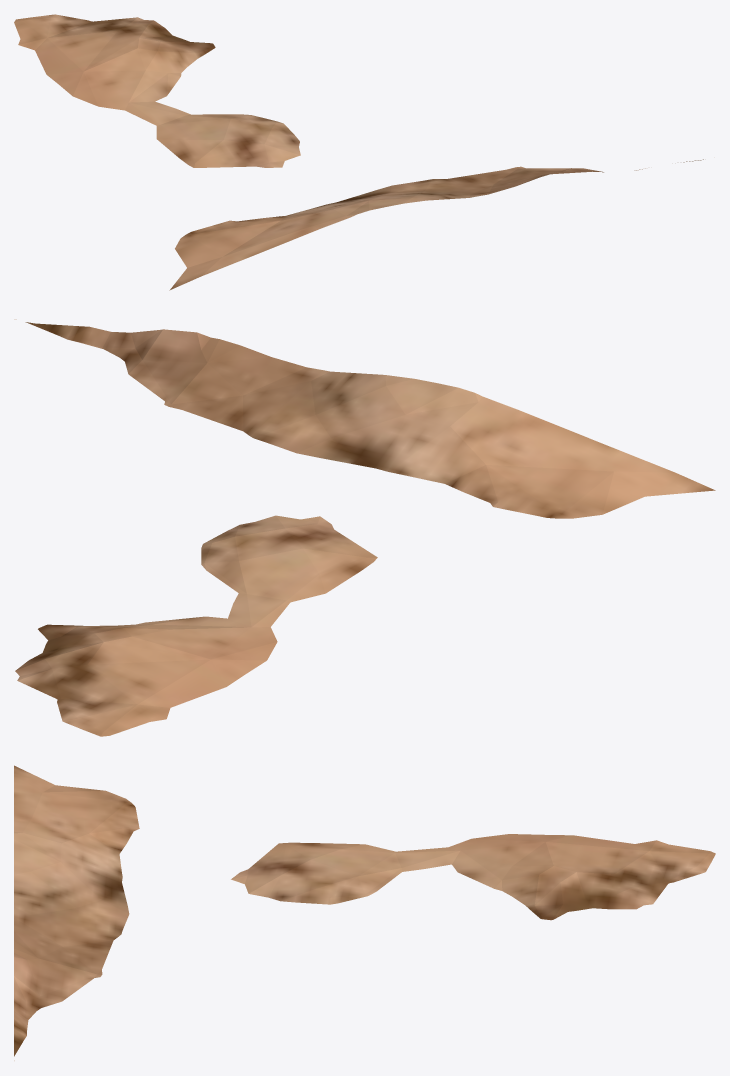
The picture shows the model from 3 angles, top to bottom: view 1: azimuth 30°, elevation 25°; view 2: azimuth 150°, elevation 25°; view 3: azimuth 270°, elevation 25°; orthographic projection. The views are drawn at different scales.
Bounding box in the file's own units: 0.8558 × 0.0467 × 0.8573.
Materials: 1 (1 with a texture image).
